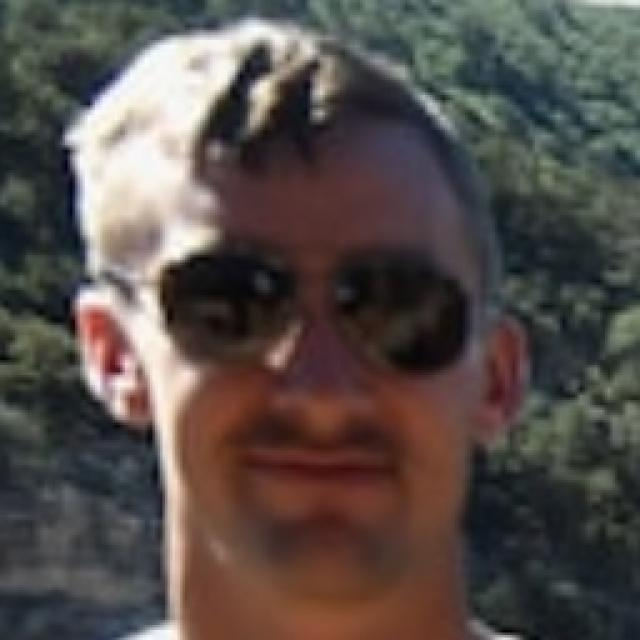glasses: (152, 228, 503, 386)
